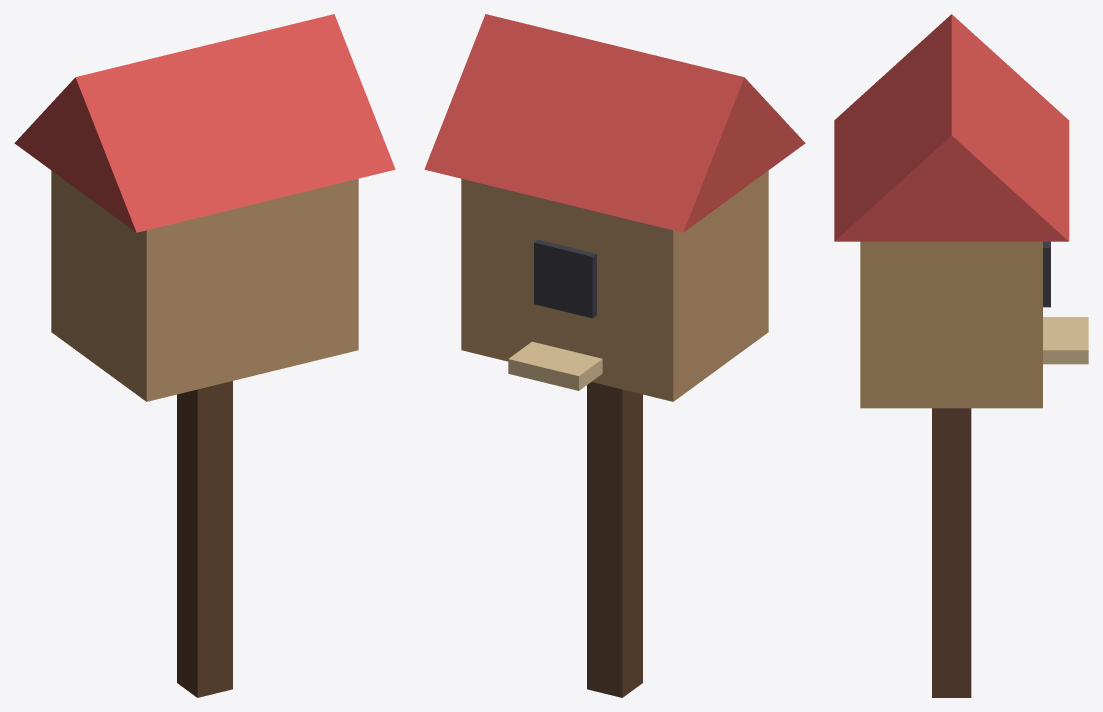
Rendered from deco_birdhouse.obj.
3 renders of one model, left to right at view 1: azimuth 30°, elevation 25°; view 2: azimuth 150°, elevation 25°; view 3: azimuth 270°, elevation 25°, orthographic. The views are drawn at different scales.
Visible parts, largest first — view 1: deco_birdhouse; view 2: deco_birdhouse; view 3: deco_birdhouse.
Boxes of the visible parts, <box> form: deco_birdhouse: <box>14,14,395,697</box>; deco_birdhouse: <box>424,14,805,697</box>; deco_birdhouse: <box>834,14,1088,697</box>.
Bounding box in the file's own units: 0.022 × 0.052 × 0.0195.
1 material, 1 textured.
